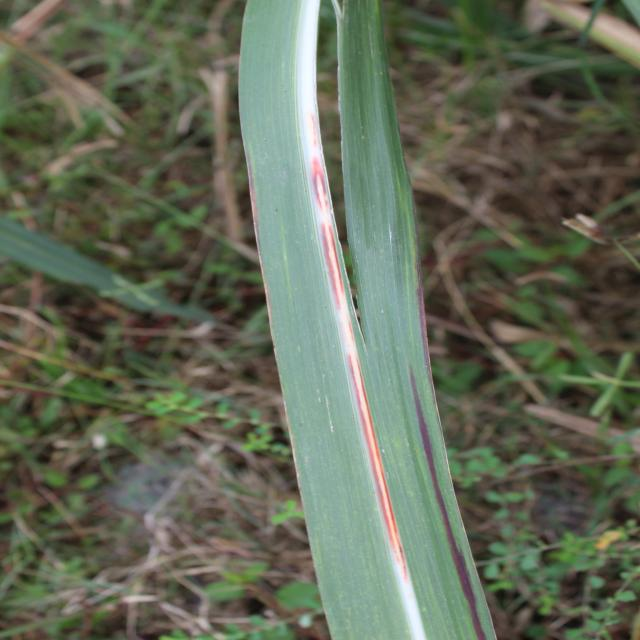Sugarcane: (227, 0, 500, 640), (351, 119, 640, 292), (120, 0, 284, 216), (343, 3, 541, 111), (495, 92, 638, 230), (4, 0, 129, 138), (169, 0, 236, 135), (121, 0, 209, 85), (209, 9, 263, 143), (516, 150, 636, 198), (375, 11, 423, 129), (246, 8, 294, 116), (578, 159, 640, 235), (513, 50, 636, 72), (618, 342, 640, 440), (510, 82, 628, 100)
